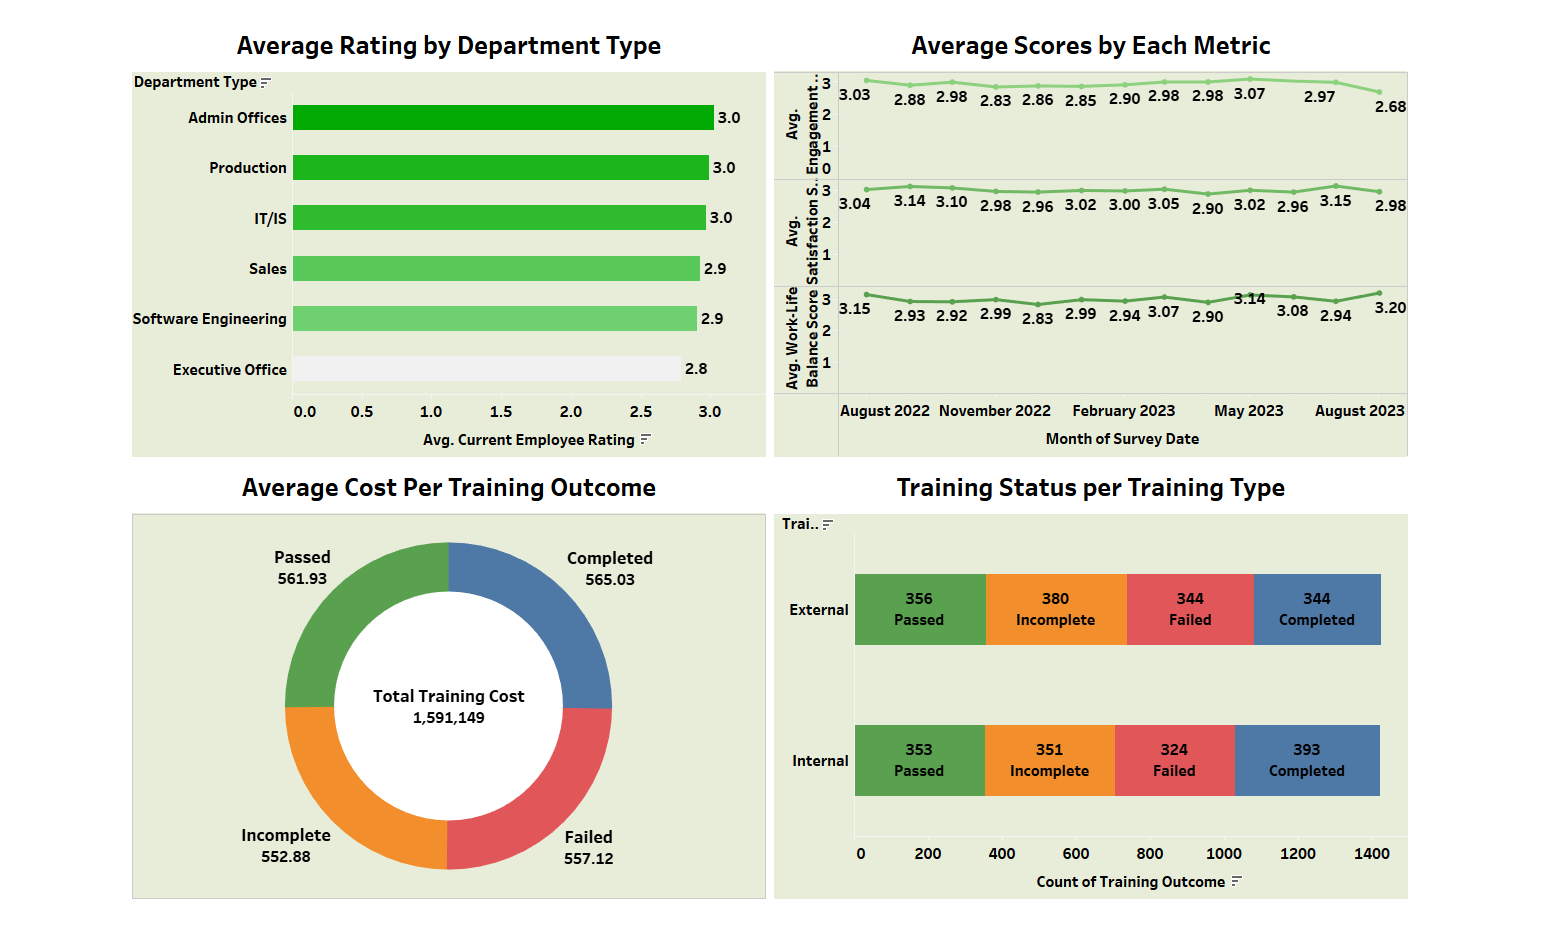

This screenshot's page, from the dashboard's own definition file:
{"tool":"tableau","page":{"name":"Emp. by Performance Metrics","canvas":[1300,900],"ordinal":1},"visuals":[{"type":"worksheet","title":"Avg. Rating by Department","mark":"Automatic","rows":["DepartmentType"],"cols":["Current Employee Rating"],"box":[8,8,642,442]},{"type":"worksheet","title":"Avg. Scores by Each Metric","mark":"Automatic","rows":["Engagement Score","Satisfaction Score","Work-Life Balance Score"],"cols":["Survey Date"],"box":[650,8,642,442]},{"type":"worksheet","title":"Avg. Cost Per Training Outcome","mark":"Pie","rows":["Calculation_494551584586211328","Calculation_494551584586211328"],"box":[8,450,642,442]},{"type":"worksheet","title":"Training Status per Training Type","mark":"Bar","rows":["Training Type"],"cols":["Training Outcome"],"box":[650,450,642,442]}]}

Visuals, with their boxes on the page's 1300x900 design canvas (x1, y1, x2, y2). These are canvas units, not pixel positions in the 1556x938 screenshot, which may show the page scaled, cropped or inside an application window:
"Avg. Rating by Department" worksheet: [x1=8, y1=8, x2=650, y2=450]
"Avg. Scores by Each Metric" worksheet: [x1=650, y1=8, x2=1292, y2=450]
"Avg. Cost Per Training Outcome" worksheet (Pie marks): [x1=8, y1=450, x2=650, y2=892]
"Training Status per Training Type" worksheet (Bar marks): [x1=650, y1=450, x2=1292, y2=892]
